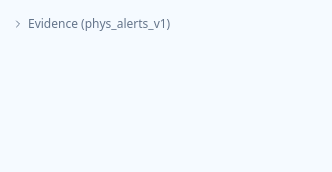
it: AlertEvidenceBlock › renders deconditioning_risk evidence with 'Inactive days' line
This screenshot has width=332, height=172.
Click the button "Evidence (phys_alerts_v1)" at (91, 24), box left=12, top=16, right=170, bottom=32
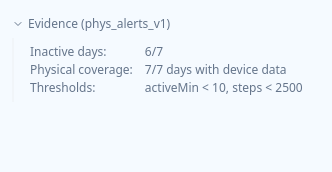
Result: the text "Inactive days:" is shown at left=30, top=43, right=107, bottom=60
Result: the text "6/7" is shown at left=145, top=43, right=163, bottom=60
